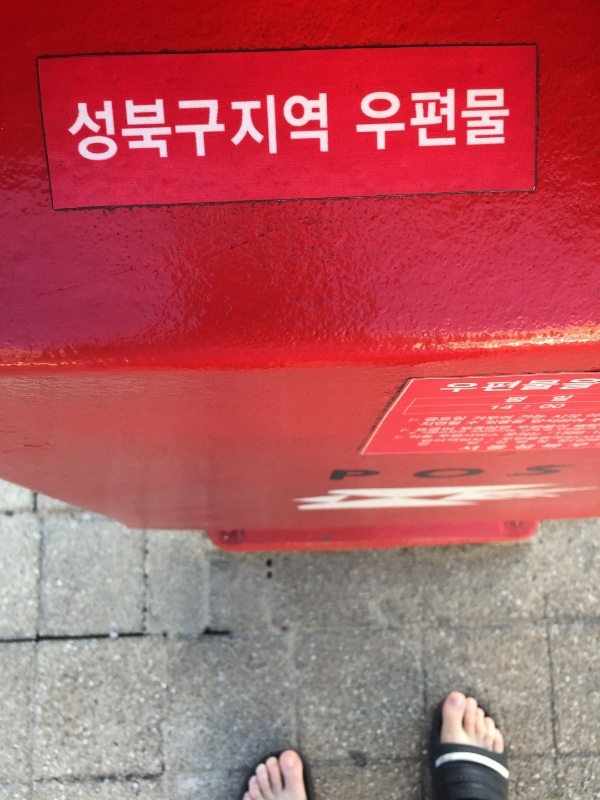text: (81, 85, 96, 168), (97, 85, 112, 168), (113, 85, 128, 168), (129, 85, 144, 168), (145, 85, 160, 168), (161, 85, 176, 168), (177, 85, 192, 168), (193, 85, 208, 168), (209, 85, 224, 168), (225, 85, 240, 168), (241, 85, 256, 168), (257, 85, 272, 168), (273, 85, 288, 168), (289, 85, 304, 168), (305, 85, 320, 168), (369, 85, 384, 161), (385, 85, 400, 161), (401, 85, 416, 161), (417, 85, 432, 161), (433, 85, 448, 161), (449, 85, 464, 161), (465, 85, 480, 161), (481, 85, 496, 161), (497, 85, 512, 161), (67, 85, 80, 168), (321, 85, 332, 168), (356, 85, 368, 161)
